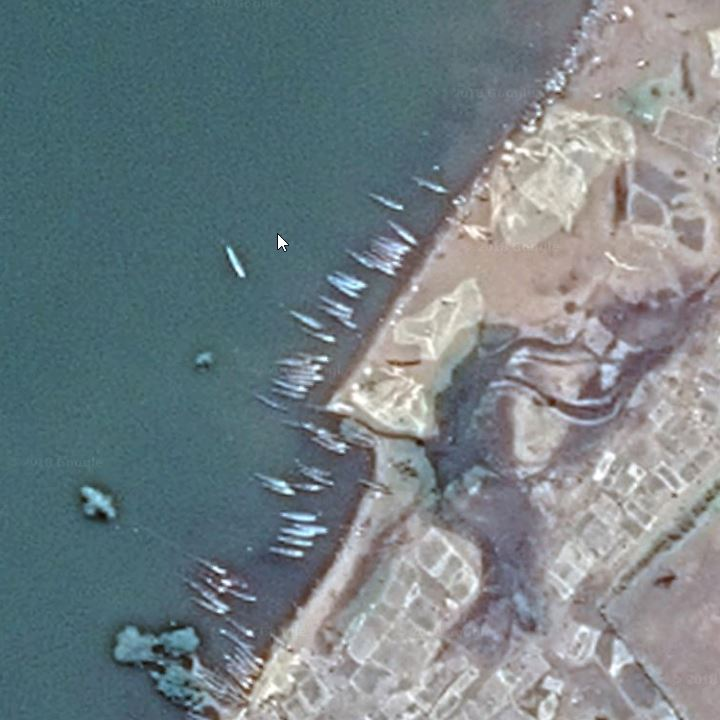boat: (404, 166, 456, 199), (184, 577, 230, 610), (381, 216, 425, 249), (358, 190, 414, 214), (219, 240, 250, 282), (183, 552, 230, 577), (232, 641, 265, 676), (287, 309, 333, 332), (313, 426, 352, 453), (219, 652, 256, 680), (220, 613, 261, 638), (223, 662, 257, 690), (211, 570, 253, 592), (297, 322, 338, 343), (371, 233, 414, 253), (252, 392, 292, 413), (316, 293, 355, 314), (309, 436, 346, 458), (249, 470, 289, 490), (370, 248, 406, 270), (231, 650, 257, 680), (237, 639, 267, 665), (292, 460, 333, 479), (222, 585, 265, 603), (344, 247, 376, 271), (216, 628, 251, 649), (297, 470, 337, 488), (323, 274, 363, 292), (328, 312, 362, 333), (269, 378, 313, 394), (190, 596, 227, 615), (335, 269, 370, 289), (274, 533, 320, 548), (371, 240, 408, 258), (371, 263, 406, 282), (276, 509, 319, 524), (368, 253, 397, 275), (290, 352, 335, 366), (370, 244, 405, 262), (329, 283, 363, 301), (268, 545, 308, 560), (257, 484, 297, 499), (287, 479, 326, 494), (317, 305, 355, 320), (272, 387, 312, 401), (272, 356, 316, 368), (291, 521, 328, 535), (280, 372, 327, 383), (277, 526, 316, 539), (280, 377, 317, 390), (272, 632, 293, 651), (280, 364, 324, 373)
